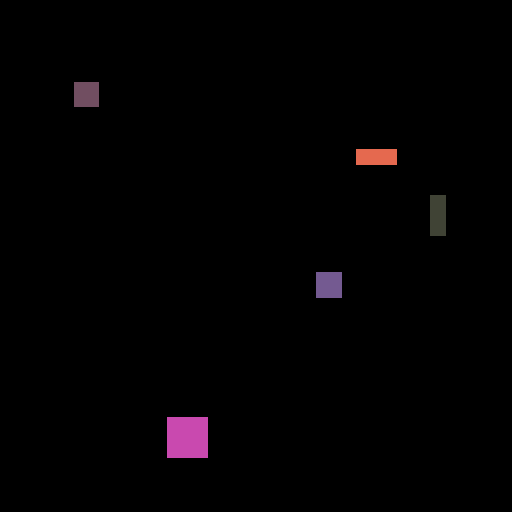side_rect: (351, 147, 401, 169)
square: (164, 413, 213, 458), (71, 79, 104, 109), (311, 268, 344, 298)
up_rect: (430, 193, 450, 239)
